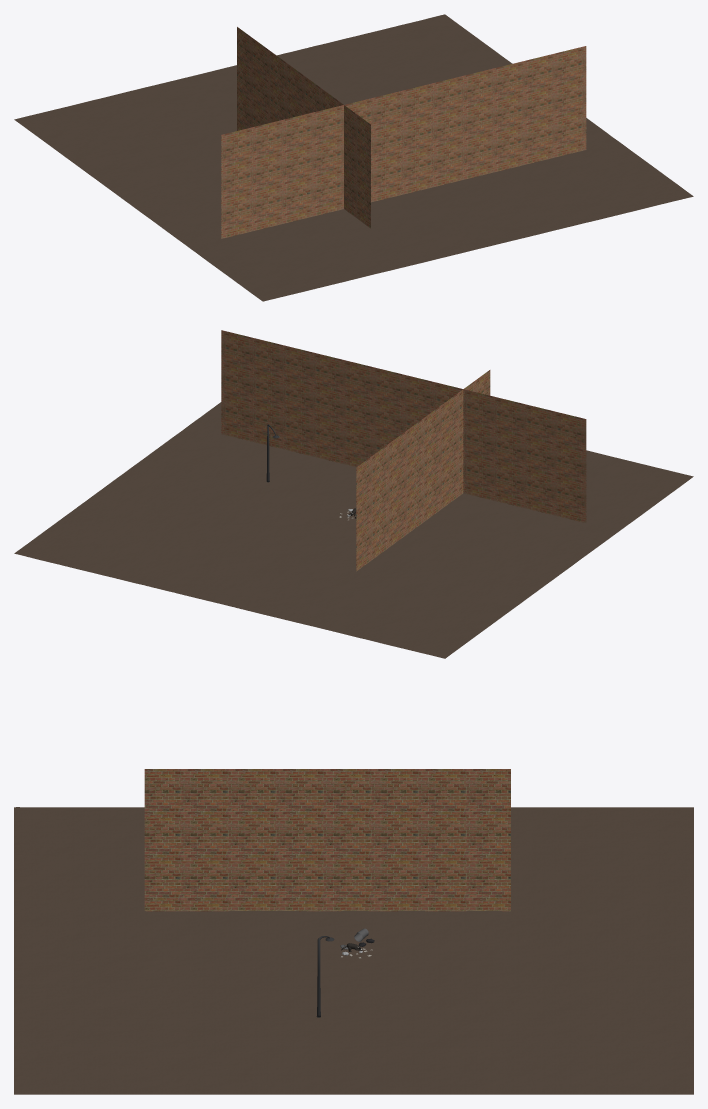
3 renders of one model, top to bottom at view 1: azimuth 30°, elevation 25°; view 2: azimuth 150°, elevation 25°; view 3: azimuth 270°, elevation 25°, orthographic. The views are drawn at different scales.
Parts seen in each view (by area): view 1: EN_Ground.001, EN_WallBack_Graffiti.001, EN_WallSide_Brick.001; view 2: EN_Ground.001, EN_WallBack_Graffiti.001, EN_WallSide_Brick.001; view 3: EN_Ground.001, EN_WallSide_Brick.001.
Part boxes in pixels (box(x1,y1,x2,y2)): EN_Ground.001: box(14, 14, 693, 301); EN_WallBack_Graffiti.001: box(221, 46, 586, 238); EN_WallSide_Brick.001: box(237, 27, 370, 228); EN_Ground.001: box(14, 402, 693, 658); EN_WallBack_Graffiti.001: box(221, 330, 586, 522); EN_WallSide_Brick.001: box(356, 370, 490, 571); EN_Ground.001: box(14, 807, 693, 1094); EN_WallSide_Brick.001: box(144, 769, 510, 911).
Size of the model in its own units: 26 by 6.12 by 26.
Materials: 19 (2 with a texture image).
